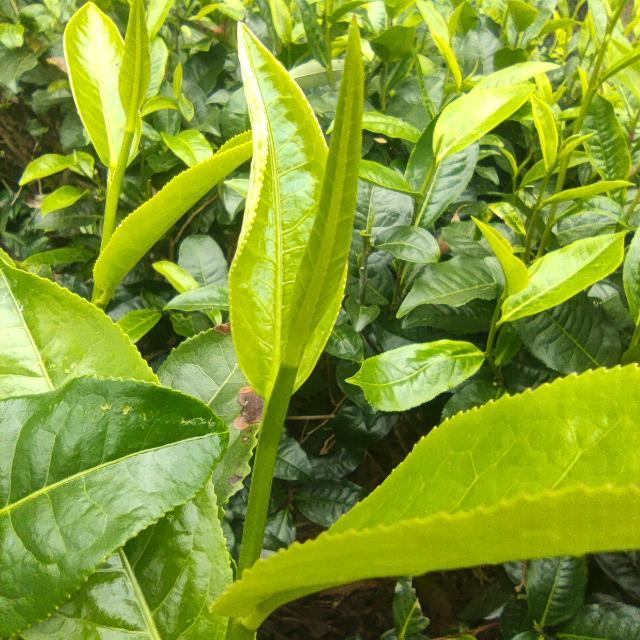Stem: (255, 412, 286, 455), (105, 183, 121, 206), (488, 325, 498, 341), (542, 174, 550, 187)
